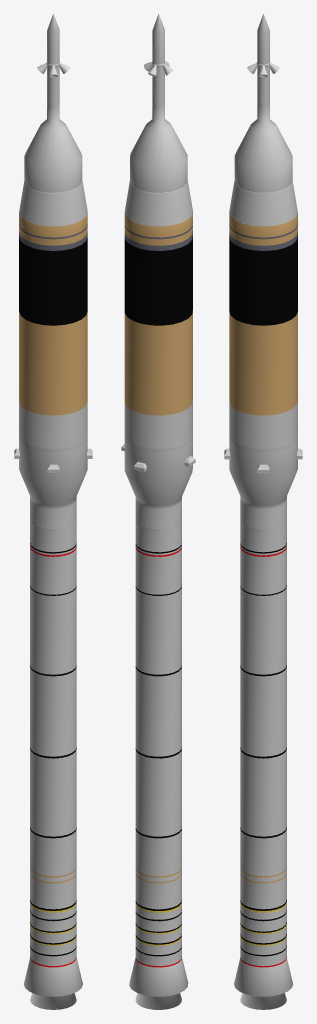
The model's file is rocket-ares-1.glb.
3 renders of one model, left to right at view 1: azimuth 90°, elevation 25°; view 2: azimuth 150°, elevation 25°; view 3: azimuth 270°, elevation 25°, orthographic.
Parts seen in each view (by area): view 1: group2 pCo.001, pCylinder1; view 2: group2 pCo.001, pCylinder1; view 3: group2 pCo.001, pCylinder1.
Boxes of the visible parts, x1,y1,x2,y2 form: group2 pCo.001: (14,14,92,1009); pCylinder1: (19,212,87,967); group2 pCo.001: (121,14,195,1009); pCylinder1: (124,211,192,967); group2 pCo.001: (224,14,302,1009); pCylinder1: (229,212,297,967).
Bounding box in the file's own units: 0.6979 × 9.66 × 0.6979.
